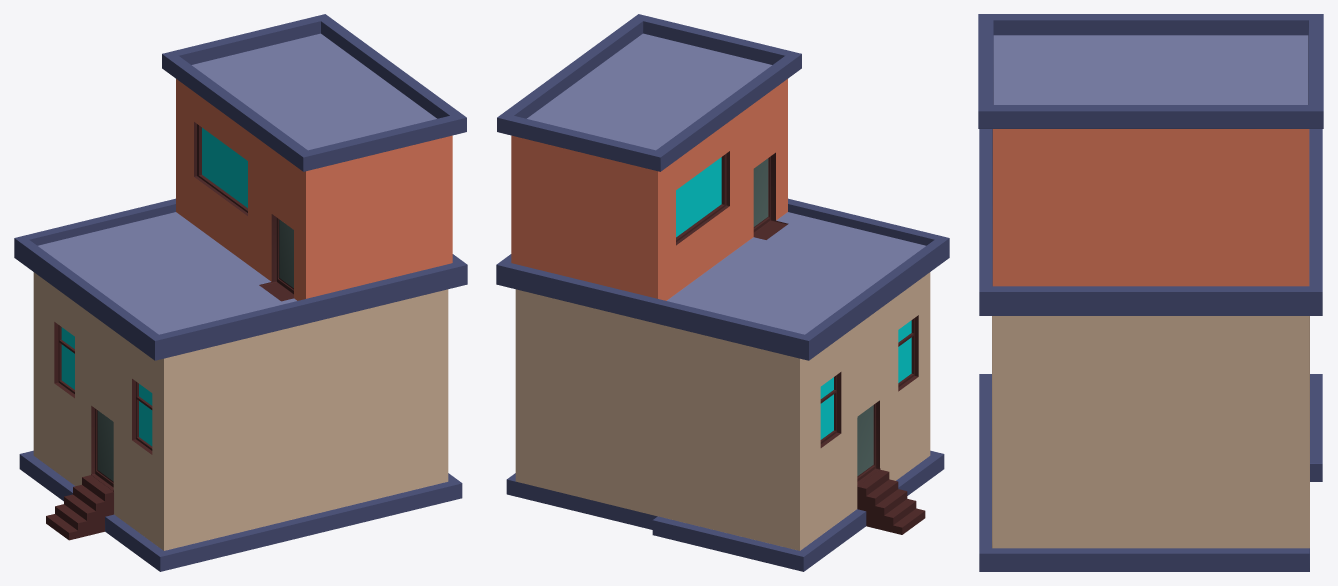
Rendered from Main House3.fbx.
3 views of the same model, side by side, from view 1: azimuth 30°, elevation 25°; view 2: azimuth 150°, elevation 25°; view 3: azimuth 270°, elevation 25° (orthographic). The views are drawn at different scales.
Parts seen in each view (by area): view 1: Plane.009; view 2: Plane.009; view 3: Plane.009.
Boxes of the visible parts, x1,y1,x2,y2 form: Plane.009: (14,14,467,571); Plane.009: (496,14,949,571); Plane.009: (978,14,1323,571).
Bounding box in the file's own units: 763 × 806 × 545.
